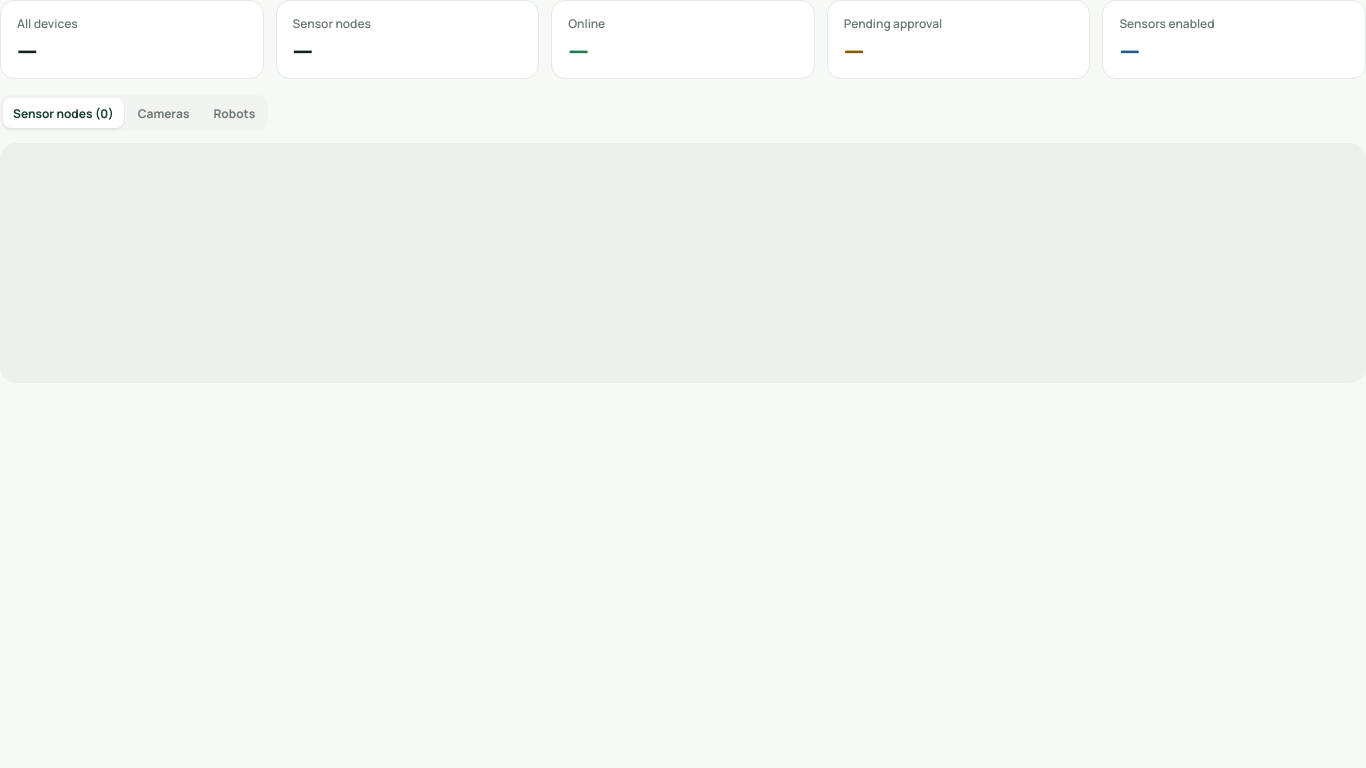
Test: USB cameras on Lefi Brain's PC (ADR-073) › shows an added camera that is not plugged in, without controls for readers
This screenshot has width=1366, height=768.
Click the tab "Cameras".
click(164, 113)  # box [128, 98, 199, 128]
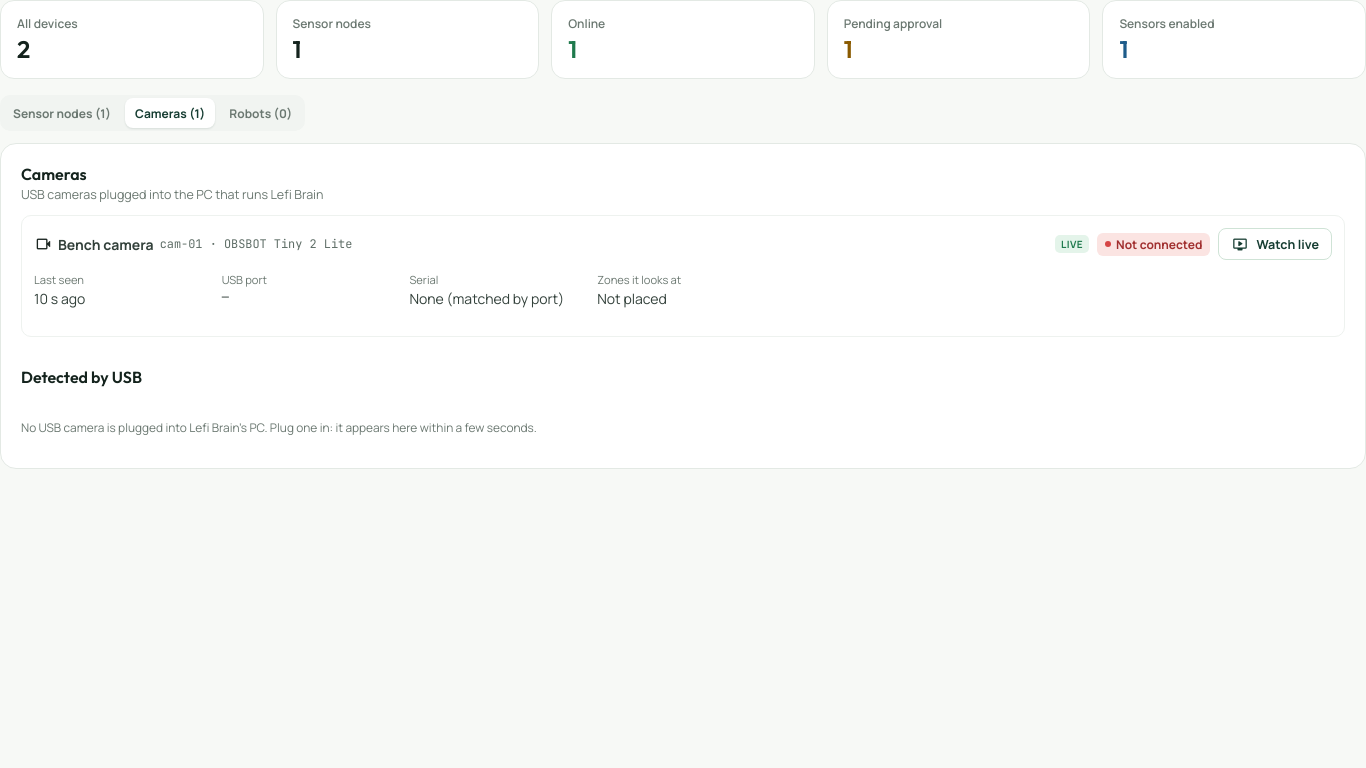
Result: the text "Bench camera" is shown at [58, 234, 154, 254]
Result: the text "Not connected" is shown at [1097, 232, 1210, 256]
Result: the text "No USB camera is plugged" is shown at [21, 419, 537, 436]
Click the button "Watch live".
click(1275, 244)  # box [1218, 228, 1332, 260]
(page scrolled)
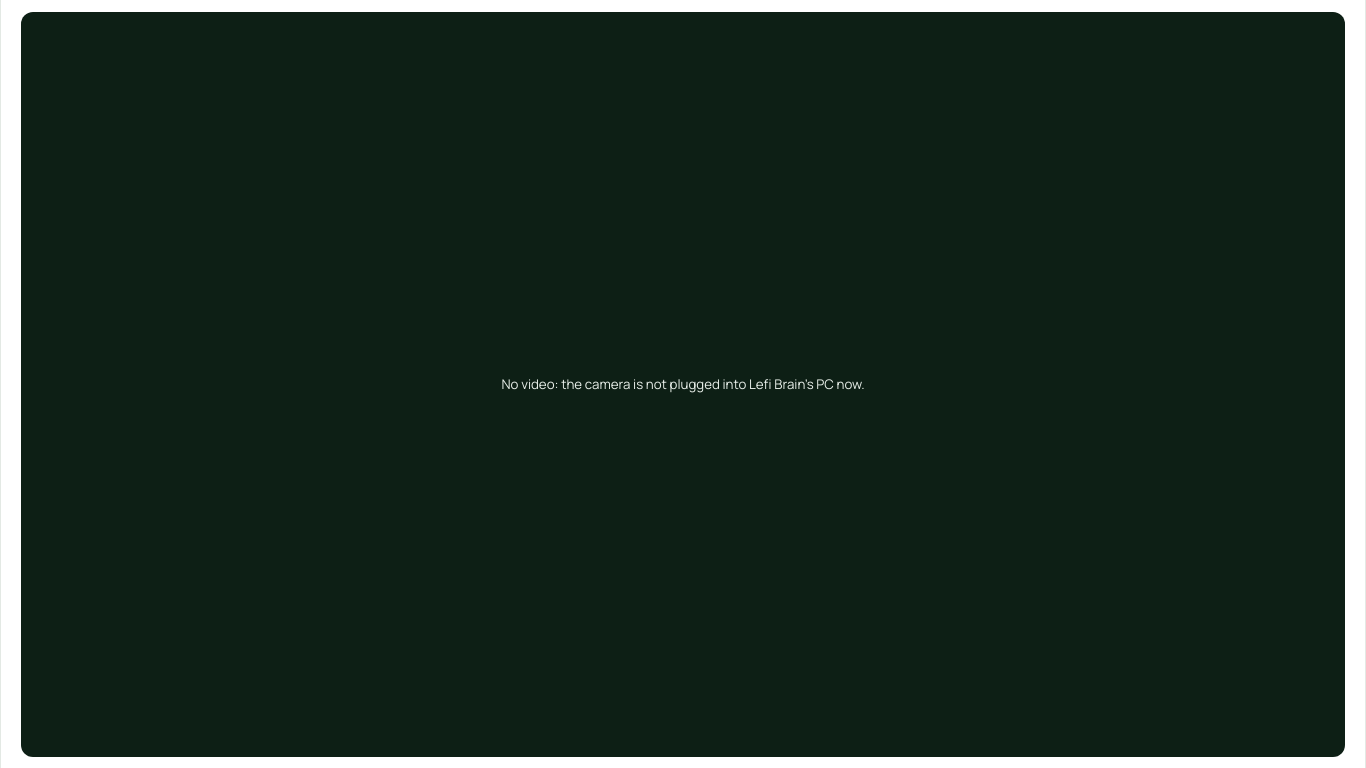
Result: the text "No video: the camera is not plugged" is shown at [502, 375, 864, 393]
